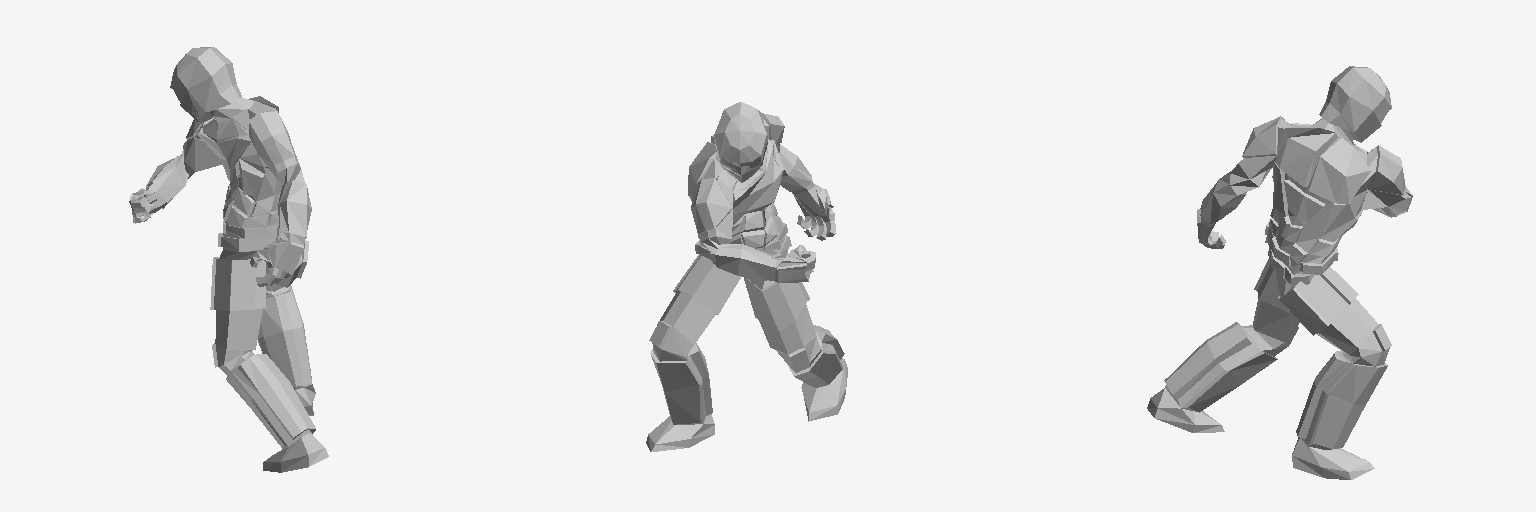
File: warer 3.obj
3 renders of one model, left to right at view 1: azimuth 30°, elevation 25°; view 2: azimuth 150°, elevation 25°; view 3: azimuth 270°, elevation 25°, orthographic.
Parts seen in each view (by area): view 1: Mesh_Mesh_Mesh_Cube.001; view 2: Mesh_Mesh_Mesh_Cube.001; view 3: Mesh_Mesh_Mesh_Cube.001.
Boxes of the visible parts, box(x1,y1,x2,y2) form: Mesh_Mesh_Mesh_Cube.001: box(129, 47, 328, 472); Mesh_Mesh_Mesh_Cube.001: box(646, 102, 847, 451); Mesh_Mesh_Mesh_Cube.001: box(1147, 66, 1412, 479).
Bounding box in the file's own units: 3.68 × 7.49 × 4.92.